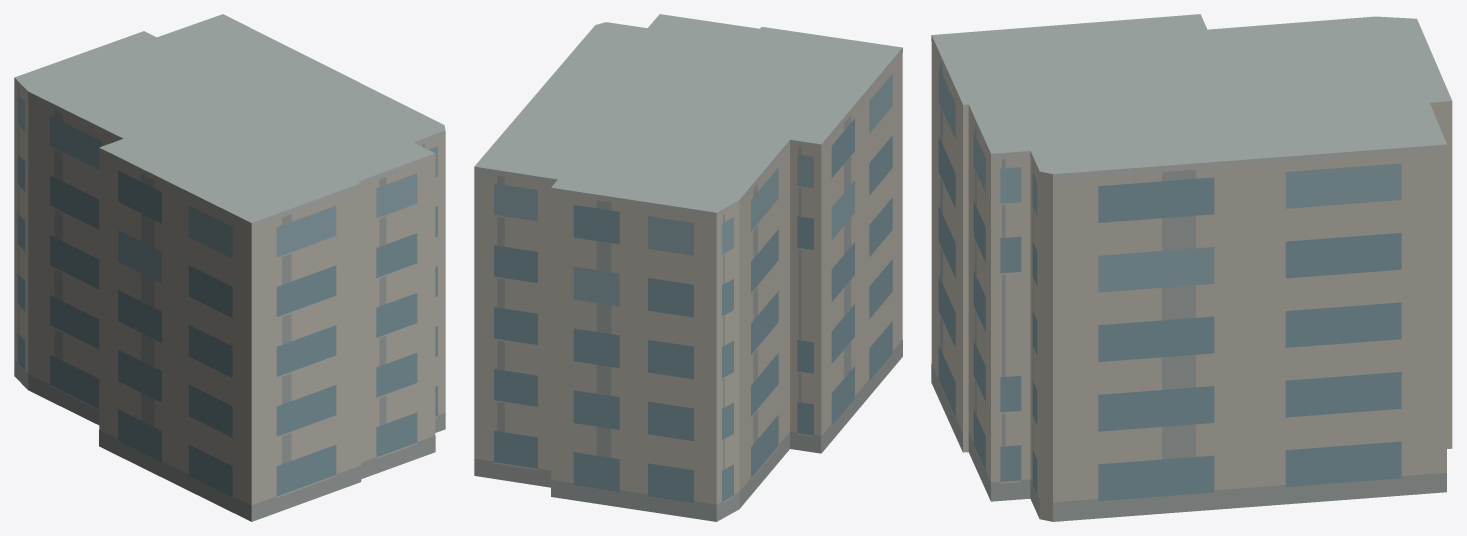
Rendered from survey-upis-32653280.glb.
3 views of the same model, side by side, from view 1: azimuth 30°, elevation 25°; view 2: azimuth 150°, elevation 25°; view 3: azimuth 270°, elevation 25° (orthographic). The views are drawn at different scales.
Visible parts, largest first — view 1: survey-upis-32653280.tmp; view 2: survey-upis-32653280.tmp; view 3: survey-upis-32653280.tmp.
Part boxes in pixels (<box>): survey-upis-32653280.tmp: <box>14,14,445,521</box>; survey-upis-32653280.tmp: <box>474,14,902,521</box>; survey-upis-32653280.tmp: <box>931,14,1452,521</box>.
Bounding box in the file's own units: 13.15 × 13.3 × 18.07.
